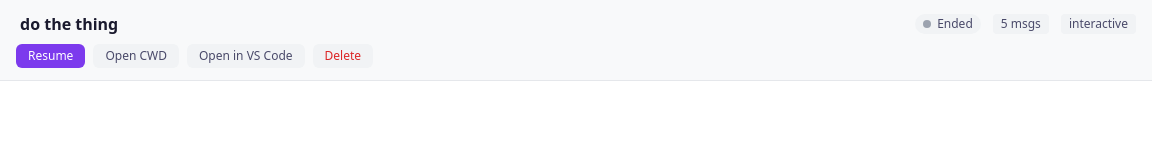
Scenario: SessionInfoBar › openShell rejection surfaces an inline alert (mirrors SkillCard)
The image size is (1152, 160).
Click the button with test id "action-open-cwd".
click(136, 56)  # box [93,44,179,68]
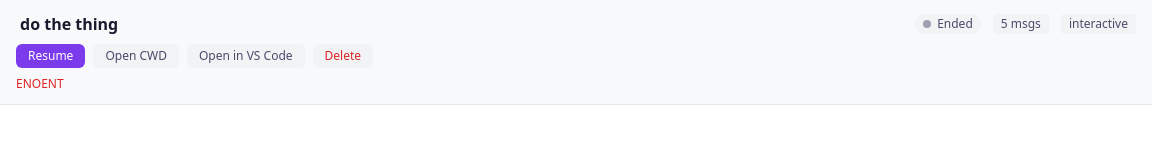
Expected: the message with test id "session-open-error" reads "ENOENT", [16,75,64,92]
